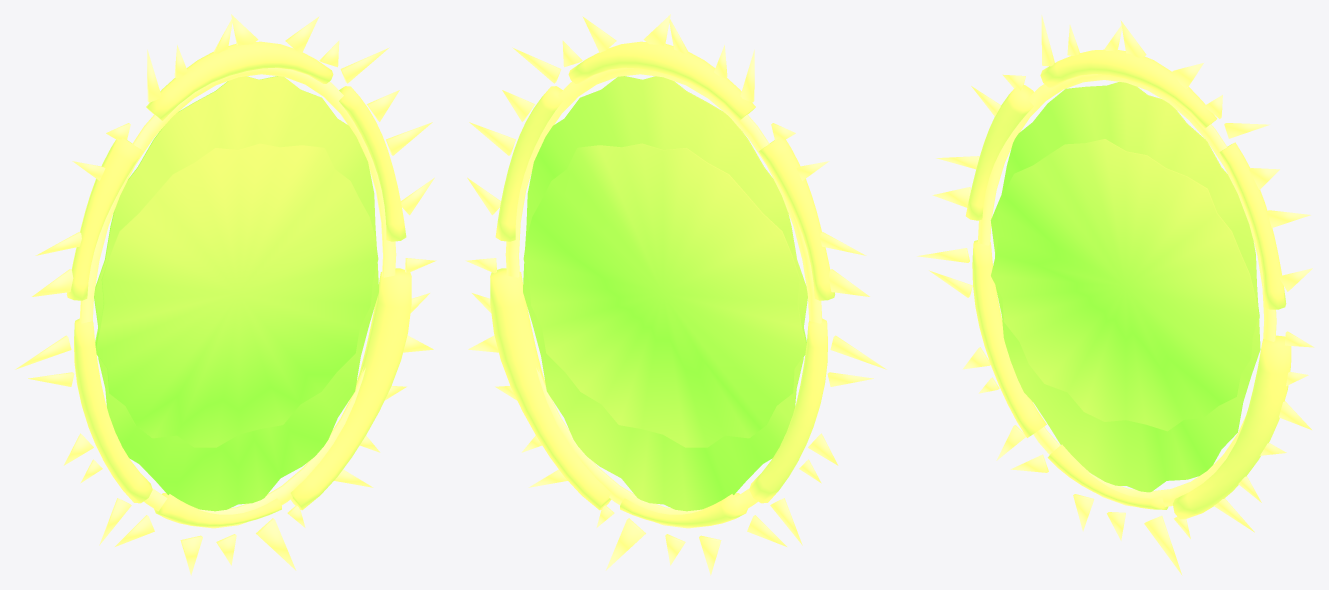
Rendered from Portal_Chatarra.fbx.
The picture shows the model from 3 angles, left to right: view 1: azimuth 30°, elevation 25°; view 2: azimuth 150°, elevation 25°; view 3: azimuth 330°, elevation 25°; orthographic projection. The views are drawn at different scales.
Parts seen in each view (by area): view 1: PortalCh_Remolino, PortalCh_Fondo, PortalCh_Anillo, PortalCh_Borde, PortalCh_Onda; view 2: PortalCh_Remolino, PortalCh_Fondo, PortalCh_Anillo, PortalCh_Borde, PortalCh_Onda; view 3: PortalCh_Remolino, PortalCh_Fondo, PortalCh_Anillo, PortalCh_Borde, PortalCh_Onda.
Boxes of the visible parts, x1,y1,x2,y2 form: PortalCh_Remolino: (95, 143, 378, 447); PortalCh_Fondo: (94, 76, 378, 511); PortalCh_Anillo: (66, 41, 411, 526); PortalCh_Borde: (15, 14, 436, 575); PortalCh_Onda: (79, 68, 396, 528); PortalCh_Remolino: (523, 143, 806, 447); PortalCh_Fondo: (523, 76, 807, 511); PortalCh_Anillo: (490, 41, 835, 526); PortalCh_Borde: (465, 14, 886, 575); PortalCh_Onda: (505, 68, 822, 528); PortalCh_Remolino: (991, 139, 1259, 431); PortalCh_Fondo: (990, 82, 1260, 492); PortalCh_Anillo: (965, 49, 1291, 519); PortalCh_Borde: (917, 15, 1314, 575); PortalCh_Onda: (977, 74, 1276, 506).
Bounding box in the file's own units: 5.9 × 7.65 × 0.4662.
